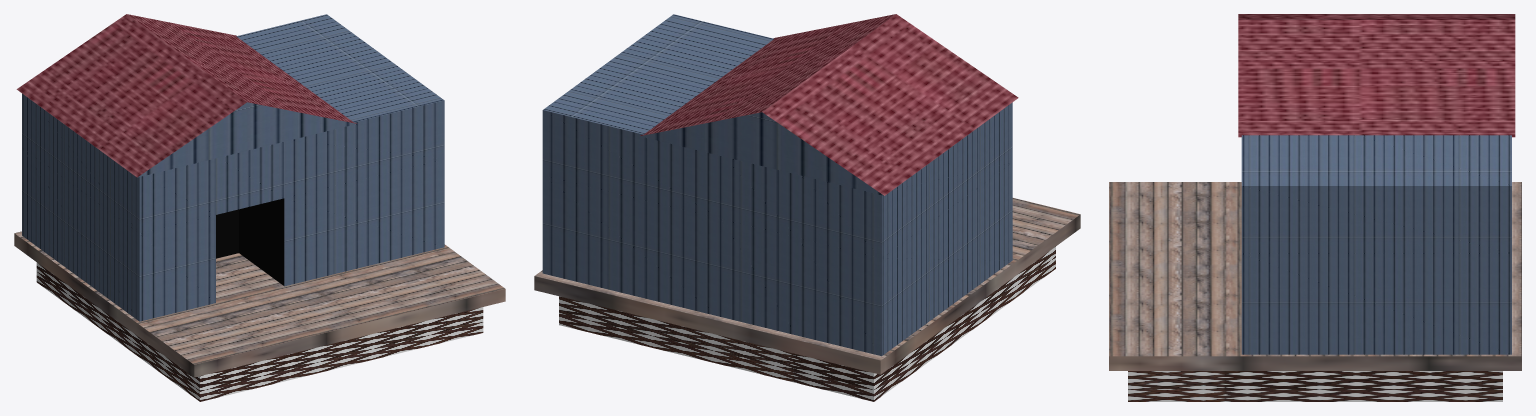
File: beach house.glb
The picture shows the model from 3 angles, left to right: view 1: azimuth 30°, elevation 25°; view 2: azimuth 150°, elevation 25°; view 3: azimuth 270°, elevation 25°; orthographic projection. The views are drawn at different scales.
Parts seen in each view (by area): view 1: Cube.001, Cube, Cube.002; view 2: Cube.001, Cube.002, Cube; view 3: Cube.001, Cube, Cube.002.
Part boxes in pixels (x1,y1,x2,y2): Cube.001: [22, 14, 444, 321]; Cube: [14, 231, 505, 401]; Cube.002: [16, 14, 356, 177]; Cube.001: [542, 14, 1012, 356]; Cube.002: [640, 14, 1018, 195]; Cube: [534, 198, 1080, 401]; Cube.001: [1241, 135, 1511, 354]; Cube: [1109, 182, 1521, 401]; Cube.002: [1238, 14, 1515, 137].
Bounding box in the file's own units: 13.47 × 9.95 × 13.44.
5 materials, 4 textured.
